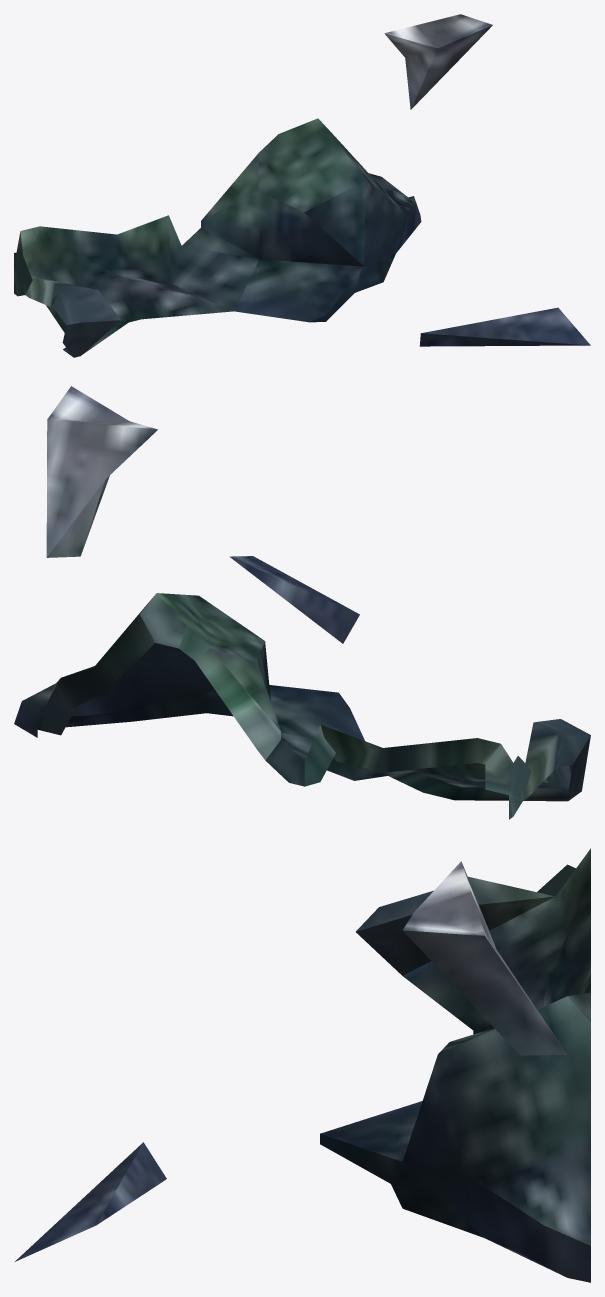
3 renders of one model, top to bottom at view 1: azimuth 30°, elevation 25°; view 2: azimuth 150°, elevation 25°; view 3: azimuth 270°, elevation 25°, orthographic. The views are drawn at different scales.
Visible parts, largest first — view 1: 30436272704361614705_0; view 2: 30436272704361614705_0; view 3: 30436272704361614705_0.
Boxes of the visible parts, box(x1,y1,x2,y2) form: 30436272704361614705_0: box(14, 14, 590, 357); 30436272704361614705_0: box(14, 386, 590, 819); 30436272704361614705_0: box(15, 848, 590, 1282).
Size of the model in its own units: 9.97 by 5.39 by 7.56.
Materials: 1 (1 with a texture image).
